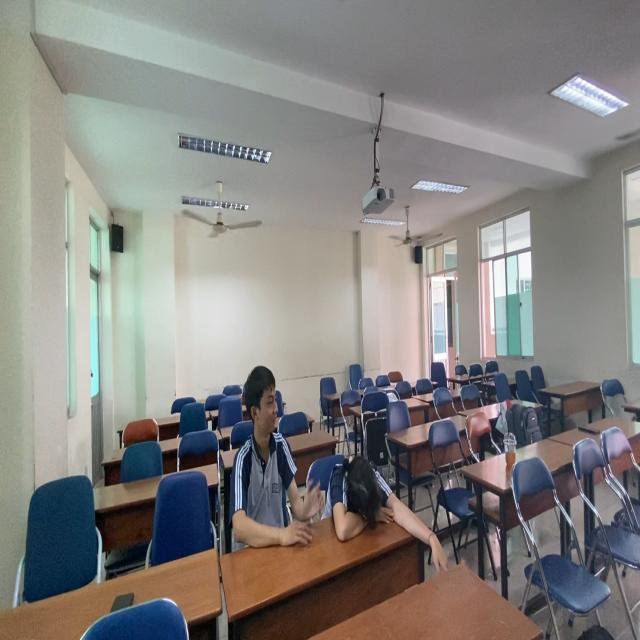sleep: (321, 448, 429, 548)
